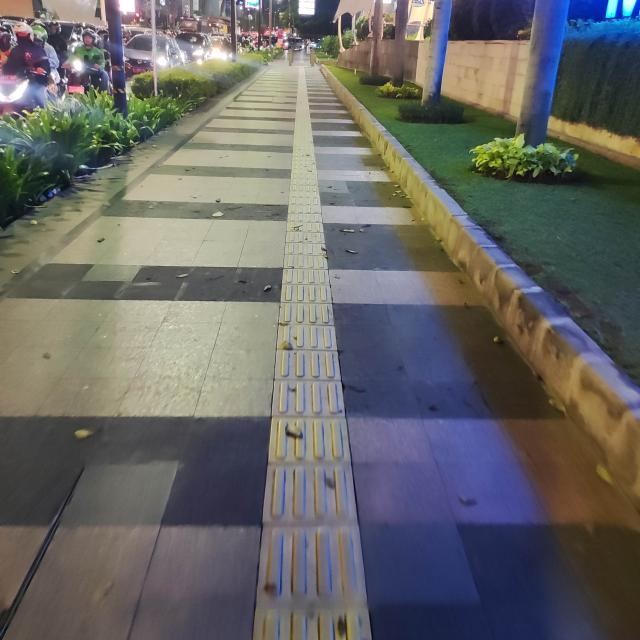lurus: (269, 81, 357, 640)
